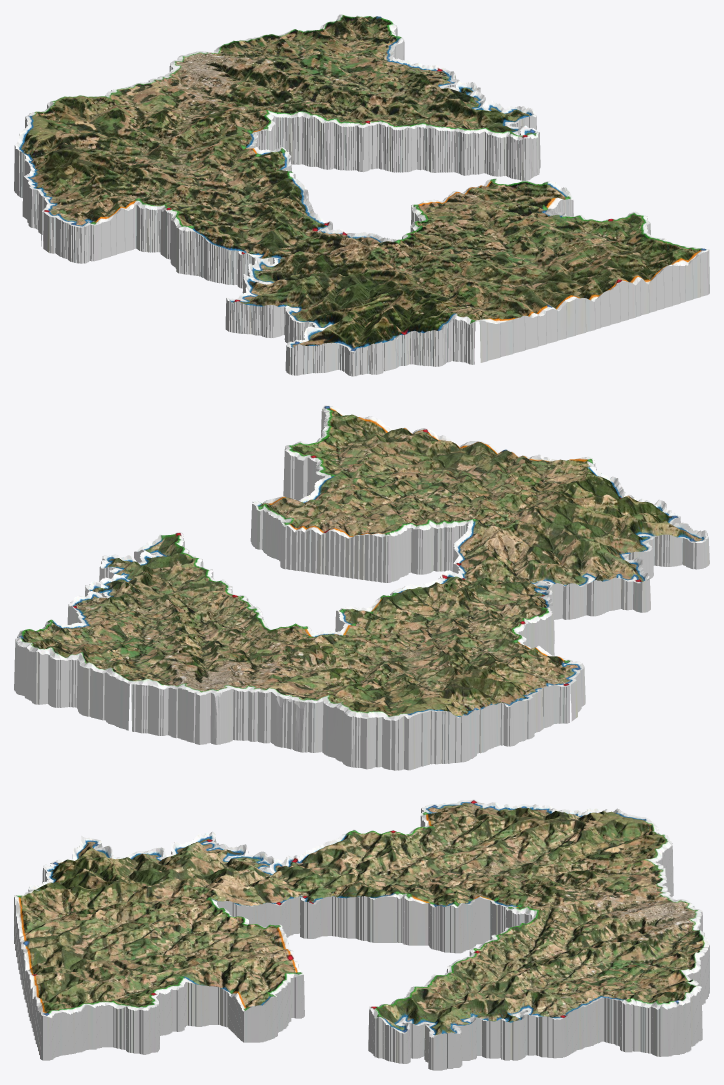
3 renders of one model, top to bottom at view 1: azimuth 30°, elevation 25°; view 2: azimuth 150°, elevation 25°; view 3: azimuth 270°, elevation 25°, orthographic. The views are drawn at different scales.
Size of the model in its own units: 1 by 0.1065 by 1.26.
1 material, 1 textured.
